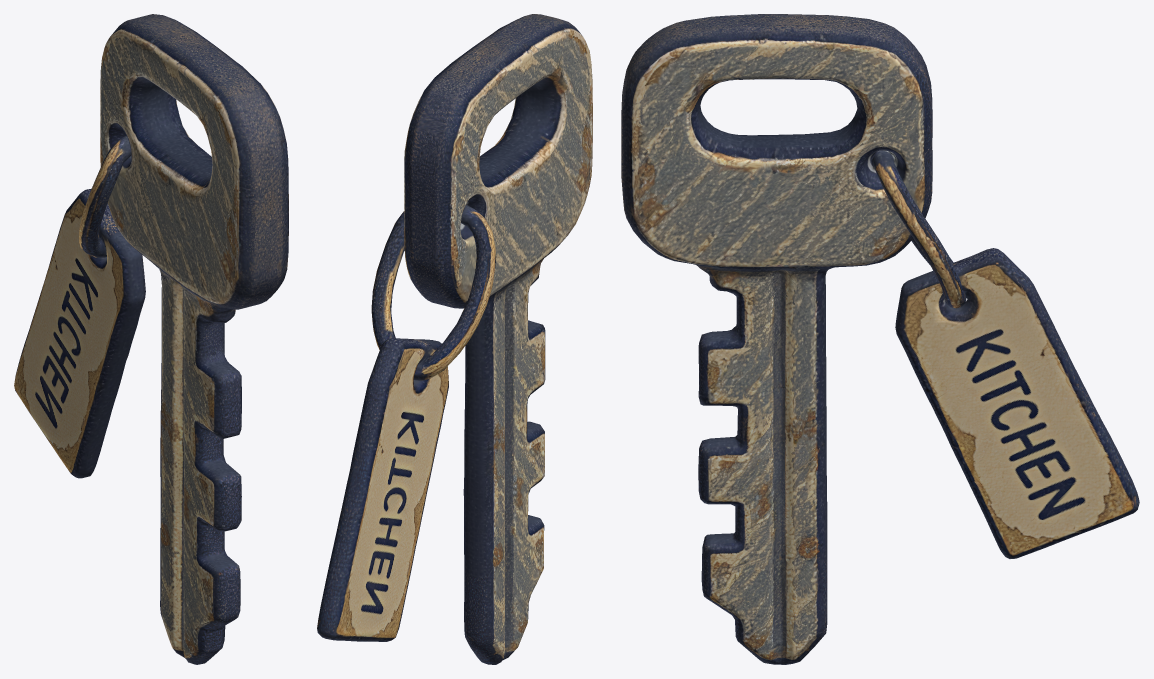
The model's file is KeyKitchen.fbx.
3 views of the same model, side by side, from view 1: azimuth 30°, elevation 25°; view 2: azimuth 150°, elevation 25°; view 3: azimuth 270°, elevation 25° (orthographic). The views are drawn at different scales.
Parts seen in each view (by area): view 1: tripo_node_3abe091d-f440-4b07-941a-a526a834223f; view 2: tripo_node_3abe091d-f440-4b07-941a-a526a834223f; view 3: tripo_node_3abe091d-f440-4b07-941a-a526a834223f.
Part boxes in pixels (x1,y1,x2,y2): tripo_node_3abe091d-f440-4b07-941a-a526a834223f: [14, 14, 288, 664]; tripo_node_3abe091d-f440-4b07-941a-a526a834223f: [317, 14, 592, 664]; tripo_node_3abe091d-f440-4b07-941a-a526a834223f: [621, 14, 1139, 664].
Size of the model in its own units: 16.85 by 100 by 73.06.
1 material, 1 textured.
